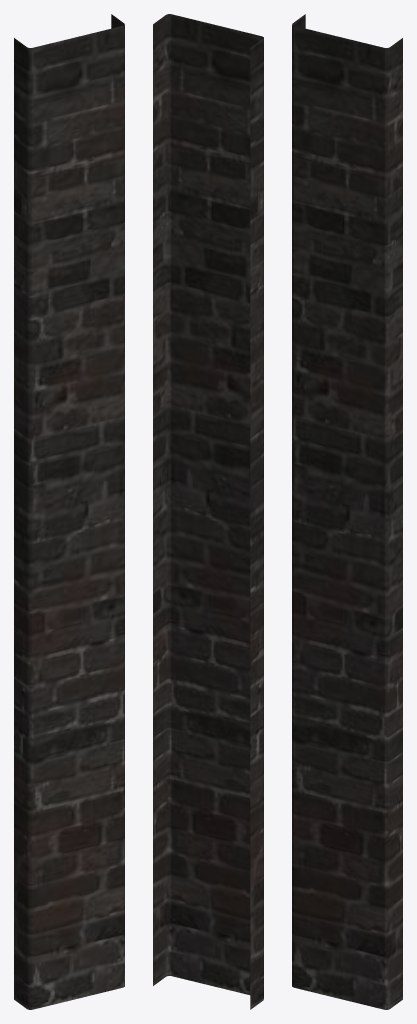
File: wall_pier.glb
3 renders of one model, left to right at view 1: azimuth 30°, elevation 25°; view 2: azimuth 150°, elevation 25°; view 3: azimuth 330°, elevation 25°, orthographic.
Visible parts, largest first — view 1: wall_pier; view 2: wall_pier; view 3: wall_pier.
Part boxes in pixels (<box>): wall_pier: <box>14,14,124,1009</box>; wall_pier: <box>153,14,263,1009</box>; wall_pier: <box>292,14,402,1009</box>.
Size of the model in its own units: 0.36 by 3.4 by 0.096.
Materials: 1 (1 with a texture image).
